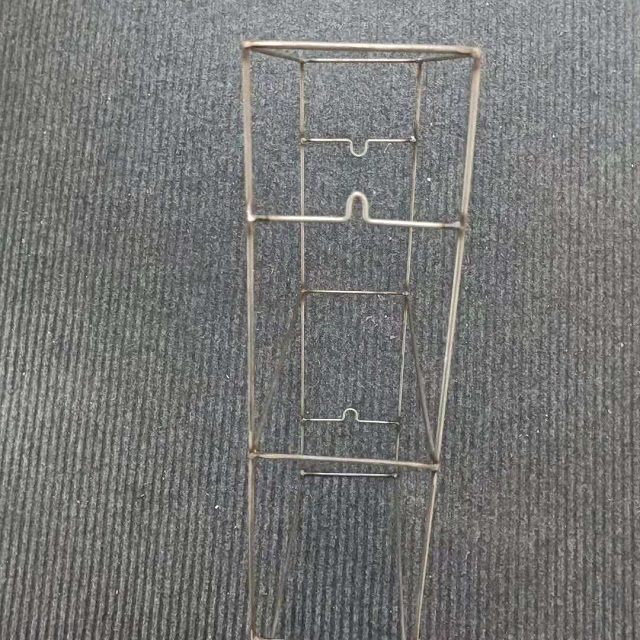curvedhole: (335, 186, 377, 232), (341, 126, 375, 167), (335, 395, 367, 429)
